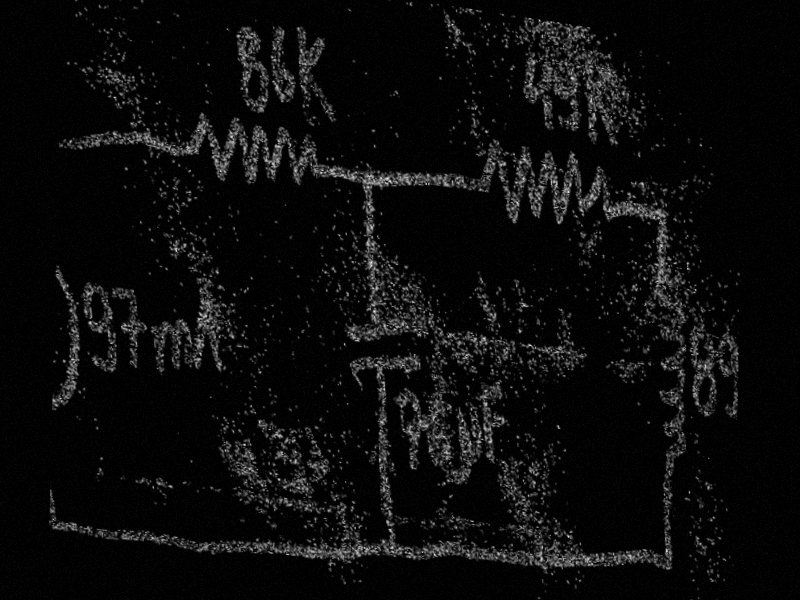4: (519, 49, 559, 134)
6: (420, 380, 456, 472), (263, 22, 301, 107)
7: (106, 279, 155, 376), (388, 381, 433, 476)
8: (230, 24, 277, 120), (684, 322, 722, 425)
9: (73, 274, 125, 380), (549, 52, 585, 142), (712, 330, 739, 424)
A: (182, 276, 228, 377)
F: (475, 375, 511, 464)
k: (290, 23, 341, 135), (580, 61, 622, 152)
m: (146, 313, 197, 378)
u: (447, 399, 488, 491)
